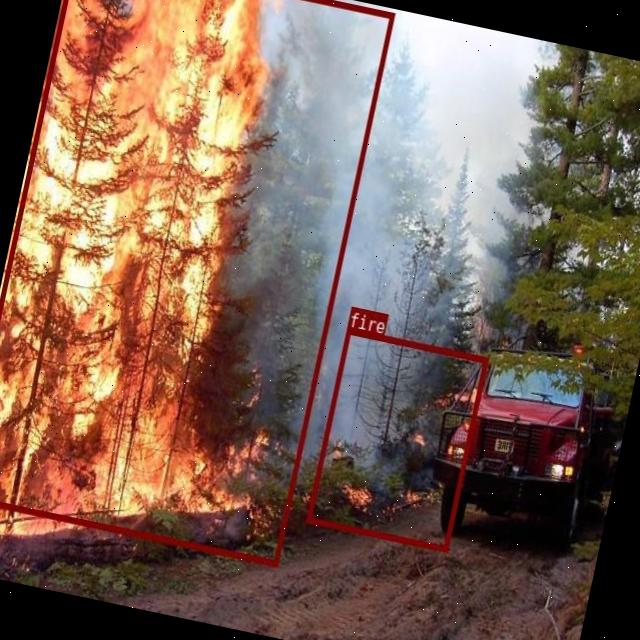fire: (0, 0, 393, 564), (305, 326, 487, 552)
